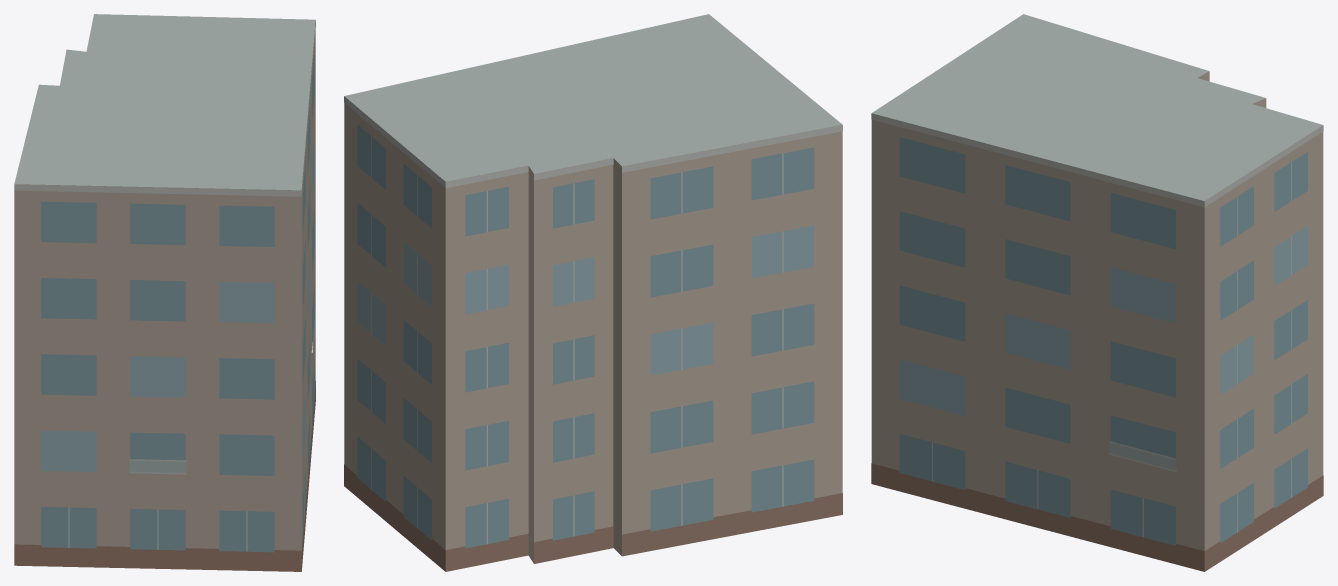
File: survey-upis-32919466.glb
The picture shows the model from 3 angles, left to right: view 1: azimuth 30°, elevation 25°; view 2: azimuth 150°, elevation 25°; view 3: azimuth 270°, elevation 25°; orthographic projection. The views are drawn at different scales.
Visible parts, largest first — view 1: survey-upis-32919466.tmp; view 2: survey-upis-32919466.tmp; view 3: survey-upis-32919466.tmp.
Part boxes in pixels (x1,y1,x2,y2): survey-upis-32919466.tmp: (14,14,315,571); survey-upis-32919466.tmp: (344,14,842,571); survey-upis-32919466.tmp: (871,14,1323,571).
Bounding box in the file's own units: 15.7 × 14.5 × 16.03.
